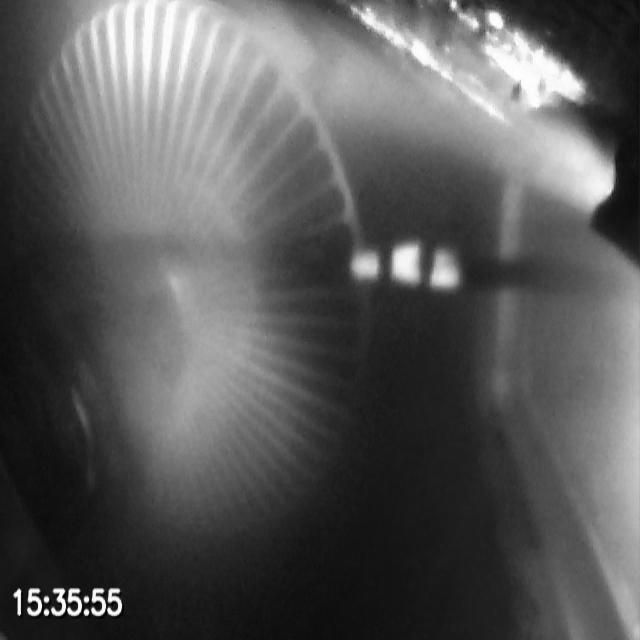white-dots: (350, 239, 460, 292)
